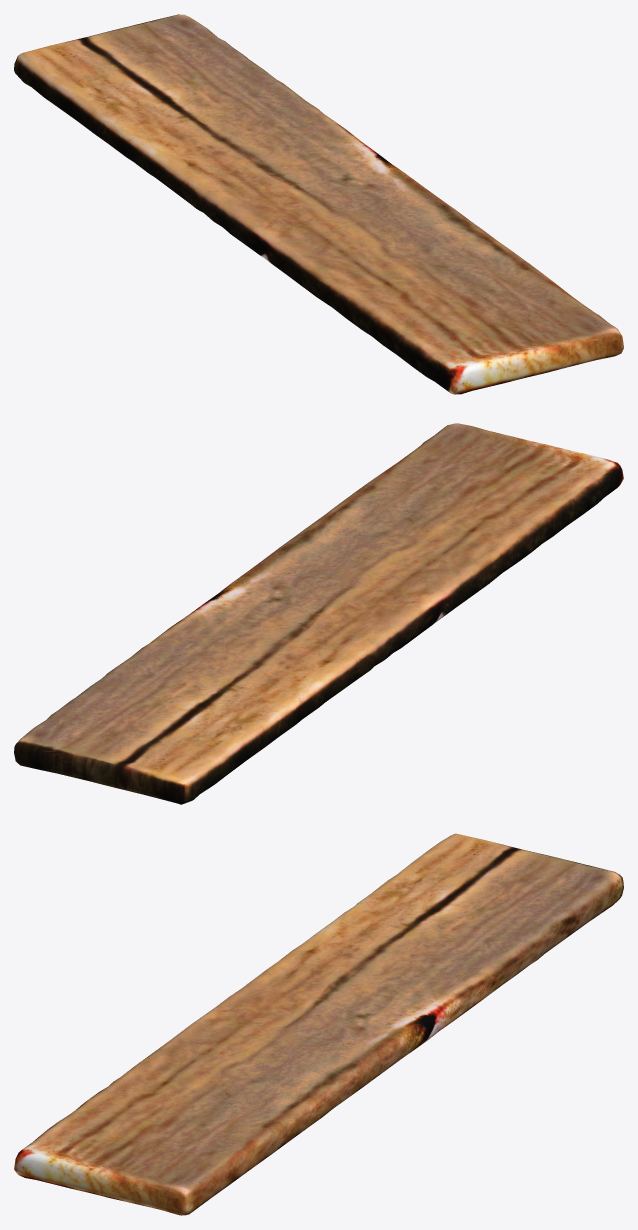
Rendered from WoodBoard.fbx.
The picture shows the model from 3 angles, top to bottom: view 1: azimuth 30°, elevation 25°; view 2: azimuth 150°, elevation 25°; view 3: azimuth 330°, elevation 25°; orthographic projection.
Parts seen in each view (by area): view 1: mesh; view 2: mesh; view 3: mesh.
Boxes of the visible parts, left/top/right/bottom form: mesh: left=14, top=14, right=623, bottom=394; mesh: left=14, top=423, right=623, bottom=804; mesh: left=14, top=833, right=623, bottom=1215.
Bounding box in the file's own units: 34.46 × 4.98 × 148.
1 material, 1 textured.
